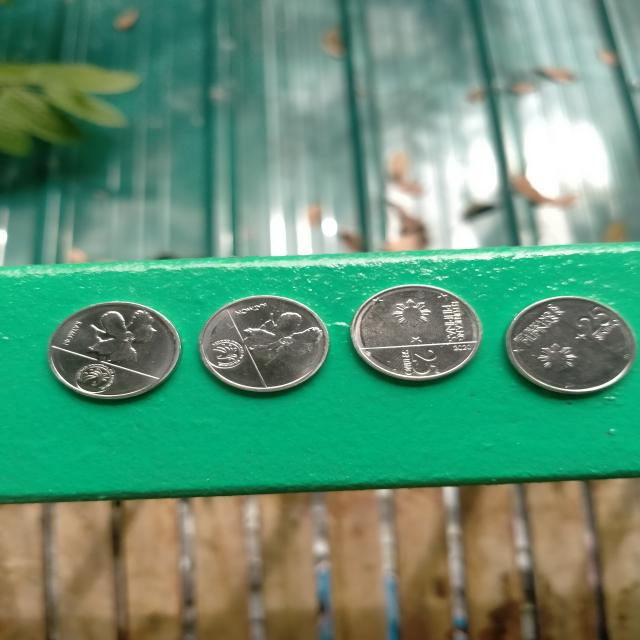25Cent_New_Back: (212, 316, 324, 378)
25Cent_New_Front: (514, 299, 623, 376)
